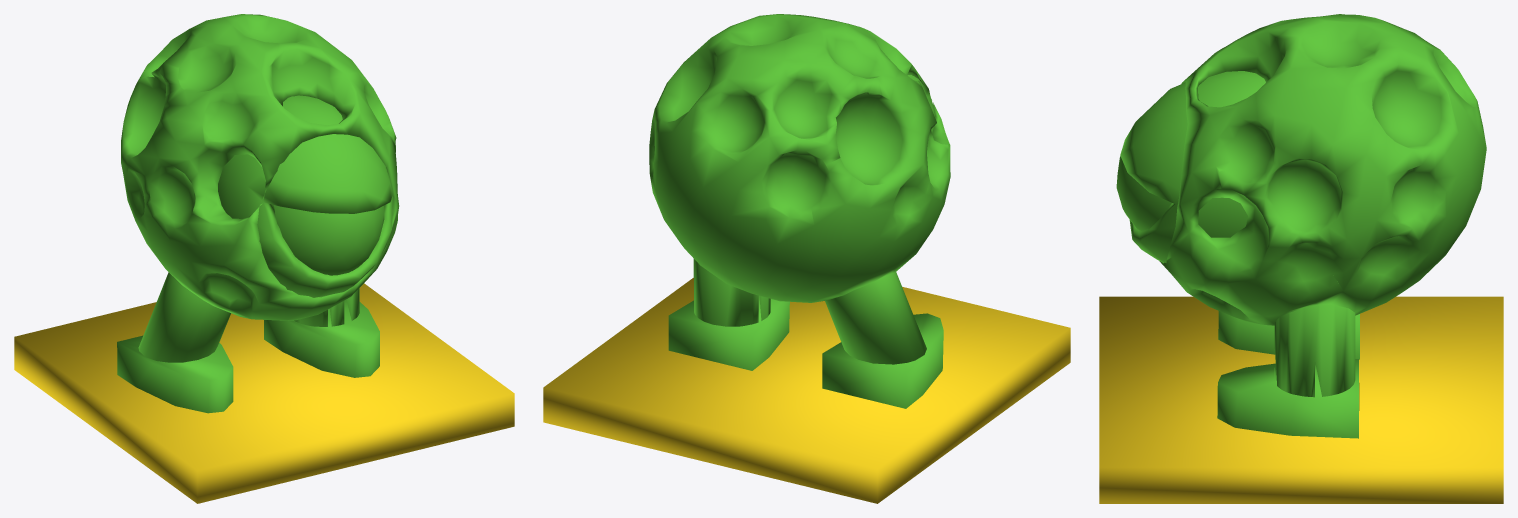
Rendered from adult_2.glb.
3 views of the same model, side by side, from view 1: azimuth 30°, elevation 25°; view 2: azimuth 150°, elevation 25°; view 3: azimuth 270°, elevation 25° (orthographic). The views are drawn at different scales.
Visible parts, largest first — view 1: figura, basetta; view 2: figura, basetta; view 3: figura, basetta.
Boxes of the visible parts, box(x1,y1,x2,y2) form: figura: box(117, 14, 399, 413); basetta: box(14, 283, 514, 503); figura: box(649, 14, 950, 408); basetta: box(543, 278, 1070, 503); figura: box(1116, 14, 1486, 438); basetta: box(1099, 296, 1503, 503).
Size of the model in its own units: 0.02 by 0.0214 by 0.02.
